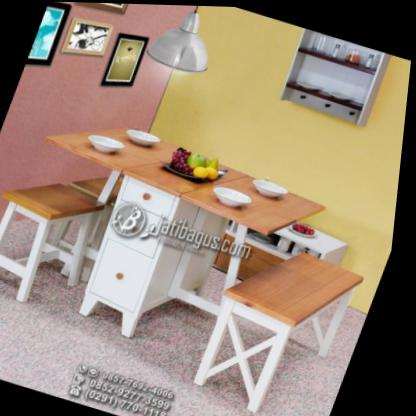Carpet: (0, 262, 373, 416)
Dining Table: (0, 74, 410, 416)
Frame: (99, 25, 154, 94), (25, 1, 73, 71), (59, 12, 116, 64), (72, 2, 138, 19)
